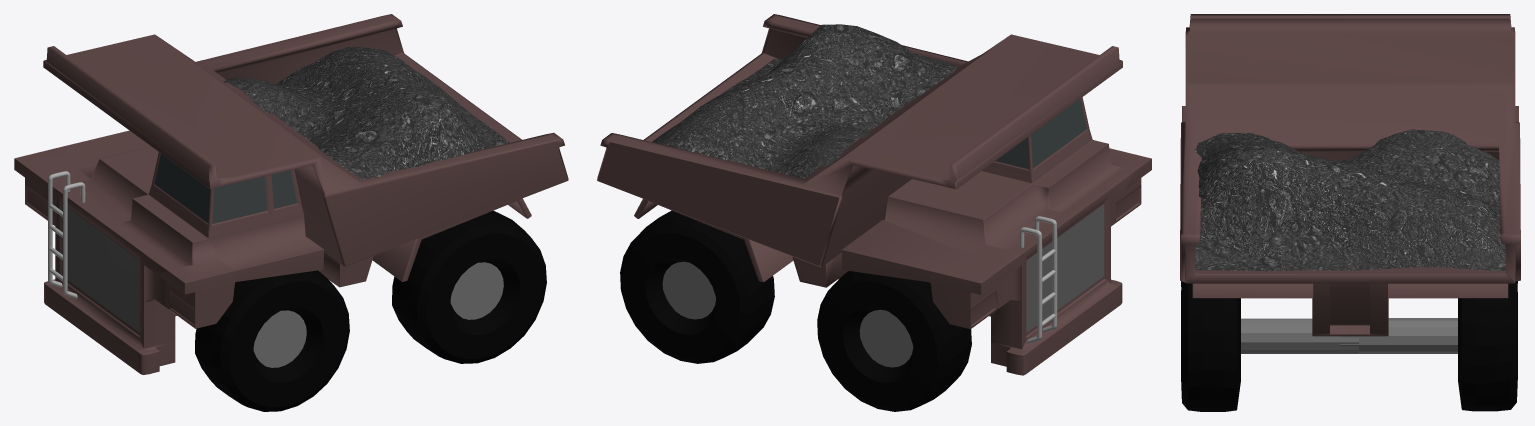
The model's file is truck_1.fbx.
3 views of the same model, side by side, from view 1: azimuth 30°, elevation 25°; view 2: azimuth 150°, elevation 25°; view 3: azimuth 270°, elevation 25° (orthographic).
Parts seen in each view (by area): view 1: polySurface74, polySurface21, pPlane2, polySurface86, polySurface87, polySurface88, polySurface62, polySurface61; view 2: polySurface74, polySurface21, pPlane2, polySurface85, polySurface84, polySurface78, polySurface61, polySurface62; view 3: polySurface74, pPlane2, polySurface86, polySurface85, polySurface21, polySurface78, polySurface88.
Part boxes in pixels (x1,y1,x2,y2): polySurface74: (43,14,568,266); polySurface21: (14,130,373,374); pPlane2: (224,46,509,179); polySurface86: (392,210,546,363); polySurface87: (195,270,349,411); polySurface88: (372,198,531,281); polySurface62: (63,182,85,298); polySurface61: (48,171,70,287); polySurface74: (597,14,1122,267); polySurface21: (792,97,1151,375); pPlane2: (652,24,957,178); polySurface85: (620,210,774,363); polySurface84: (817,271,971,411); polySurface78: (634,199,793,281); polySurface61: (1019,227,1042,343); polySurface62: (1034,216,1057,332); polySurface74: (1180,14,1520,283); pPlane2: (1194,129,1505,271); polySurface86: (1181,281,1358,411); polySurface85: (1340,281,1517,411); polySurface21: (1182,106,1518,336); polySurface78: (1387,283,1508,298); polySurface88: (1192,283,1313,298).
Bounding box in the file's own units: 660 × 418 × 494.
Materials: 7 (1 with a texture image).
